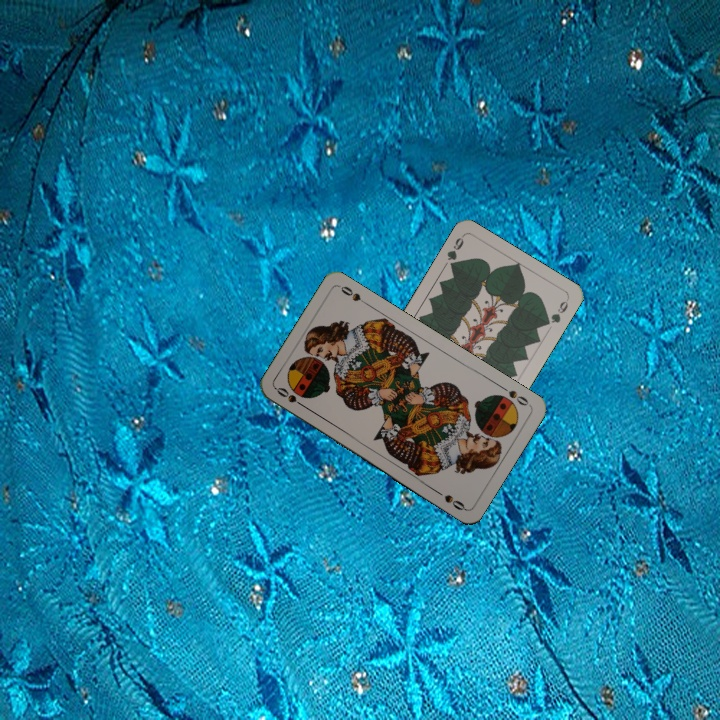G9: (443, 232, 466, 272)
SO: (272, 383, 309, 411), (496, 382, 532, 409)
